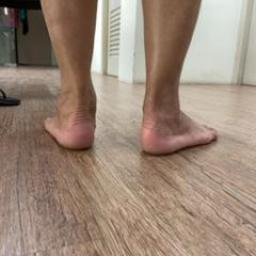Back View -Both Feet-: (28, 52, 230, 166)
